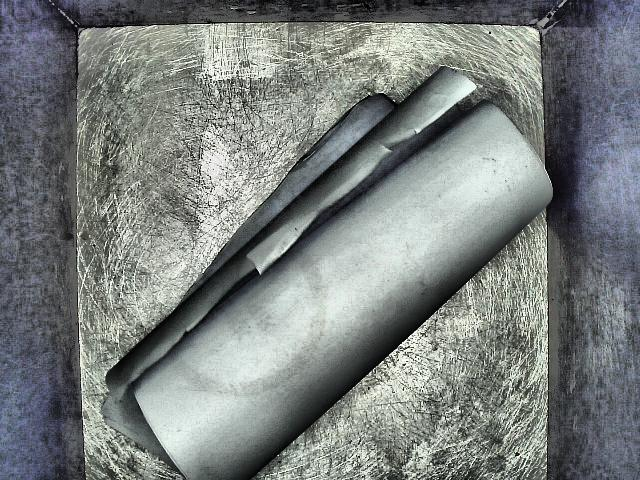Paper: (99, 46, 562, 480)
